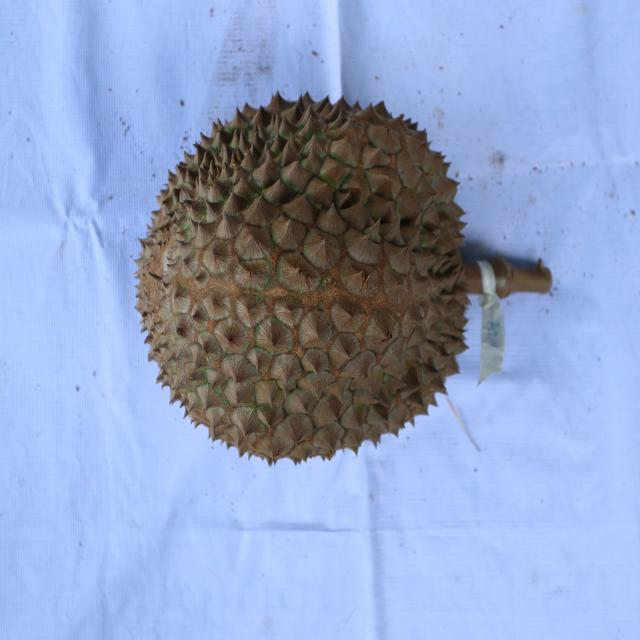mature: (132, 90, 472, 468)
